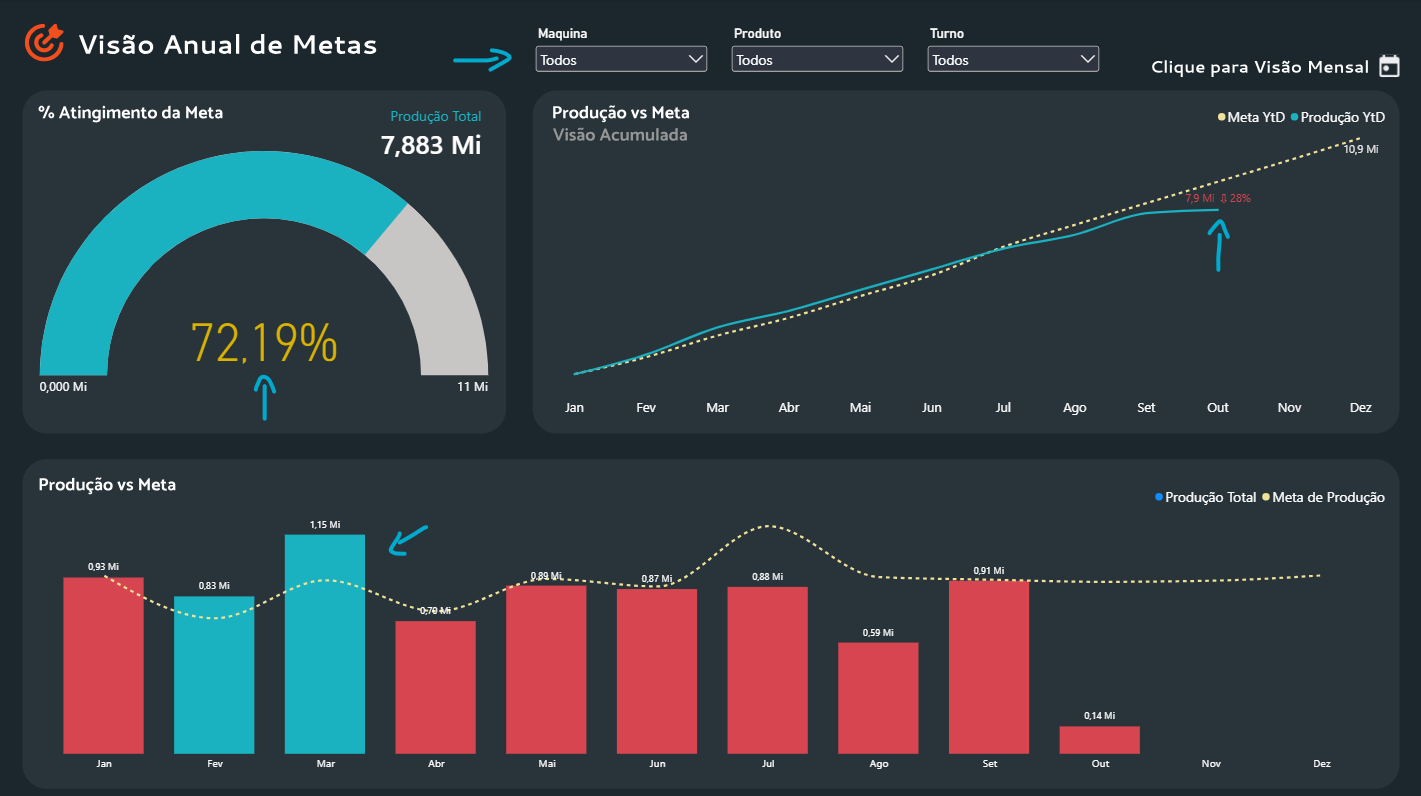

Layout of this report page (visuals, bound fields, positions):
{"tool":"powerbi","page":{"name":"Visão Anual de Metas","canvas":[1920,1080],"ordinal":0},"visuals":[{"type":"lineClusteredColumnComboChart","fields":{"Category":["DimDate.Mês Abrev"],"Y":["#Medidas2.Produção Total"],"Y2":["#Medidas2.Meta de Produção"]},"box":[36.3,639.5,1853.5,421.8],"z":0},{"type":"lineChart","fields":{"Category":["DimDate.Mês Abrev"],"Y":["#Medidas2.Meta YtD","#Medidas2.Produção YtD"]},"box":[722,128,1168,456],"z":1000},{"type":"gauge","fields":{"MaxValue":["#Medidas2.Meta de Produção"],"Y":["#Medidas2.Produção Total"]},"box":[36.4,161.6,643.7,422.8],"z":2000},{"type":"slicer","fields":{"Values":["DimMaquina.Maquina"]},"box":[718.6,35.7,241,71.4],"z":3000},{"type":"slicer","fields":{"Values":["DimProduto.Produto"]},"box":[982.9,35.7,241,71.4],"z":4000},{"type":"slicer","fields":{"Values":["DimTurno.Turno"]},"box":[1247.1,35.7,241,71.4],"z":5000},{"type":"cardVisual","fields":{"Data":["#Medidas2.Atingimento da meta %"]},"box":[207.1,372.9,302.9,180],"z":5001},{"type":"cardVisual","fields":{"Data":["#Medidas2.Produção Total"]},"box":[438.6,107.1,228.6,150],"z":5002},{"type":"actionButton","box":[1538.6,71.4,351.4,40],"z":5003}]}

Visuals, with their boxes in screenshot pixels (x1, y1, x2, y2), scaled from the page's 1920x1080 canvas onto the 1421x796 screenshot:
lineClusteredColumnComboChart - DimDate.Mês Abrev x #Medidas2.Produção Total: (left=27, top=471, right=1399, bottom=782)
lineChart - DimDate.Mês Abrev x #Medidas2.Meta YtD: (left=534, top=94, right=1399, bottom=430)
gauge - #Medidas2.Meta de Produção x #Medidas2.Produção Total: (left=27, top=119, right=503, bottom=431)
slicer - DimMaquina.Maquina: (left=532, top=26, right=710, bottom=79)
slicer - DimProduto.Produto: (left=727, top=26, right=906, bottom=79)
slicer - DimTurno.Turno: (left=923, top=26, right=1101, bottom=79)
cardVisual - #Medidas2.Atingimento da meta %: (left=153, top=275, right=377, bottom=408)
cardVisual - #Medidas2.Produção Total: (left=325, top=79, right=494, bottom=189)
actionButton: (left=1139, top=53, right=1399, bottom=82)
